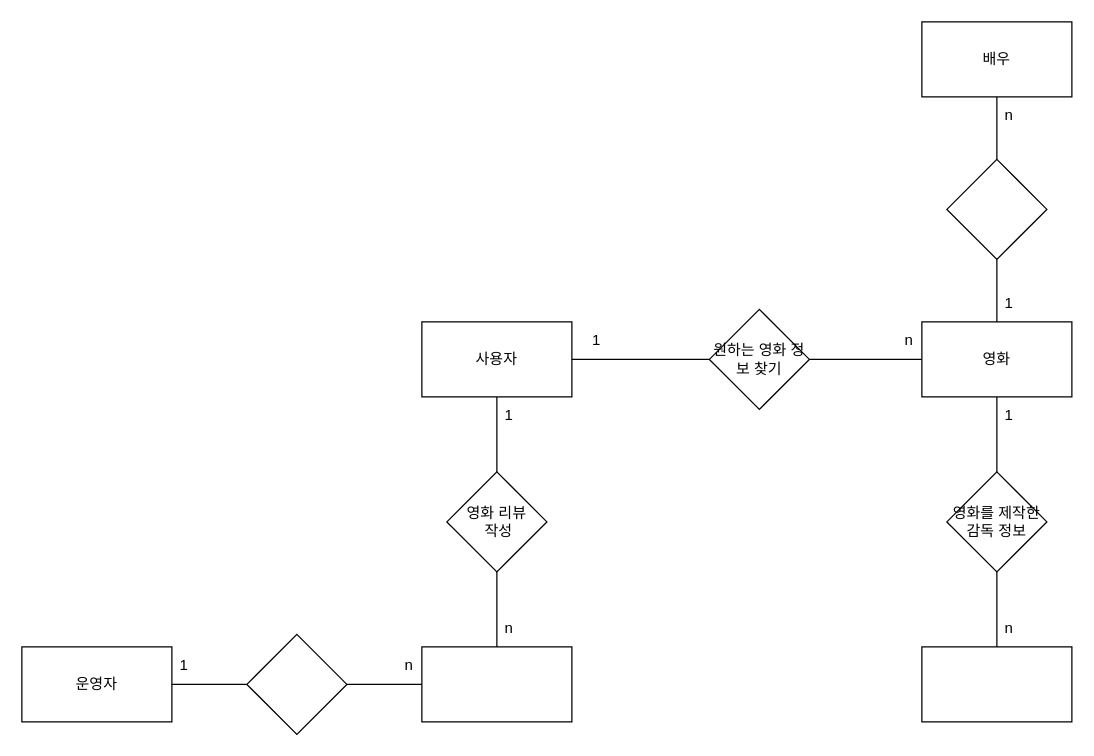
This 1094x756 diagram has some shape labels left out. The shapes that lost their labels are listed below. From the top down, each one's centre as x and y in pixels, then its label:
At (996,208): "영화에 출연한 배우 정보".
At (296,683): "리뷰관리".
At (496,684): "리뷰".
At (996,684): "감독".
